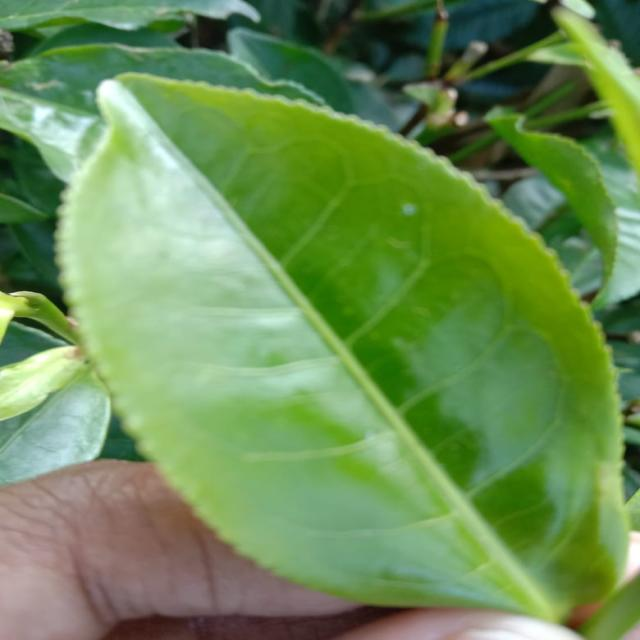Category B 2-4 days: (44, 60, 638, 628)
